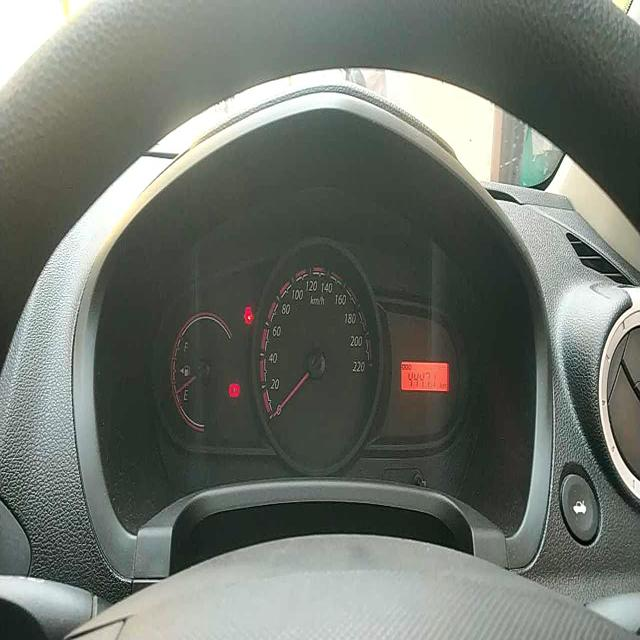odometer: (406, 367, 438, 389)
